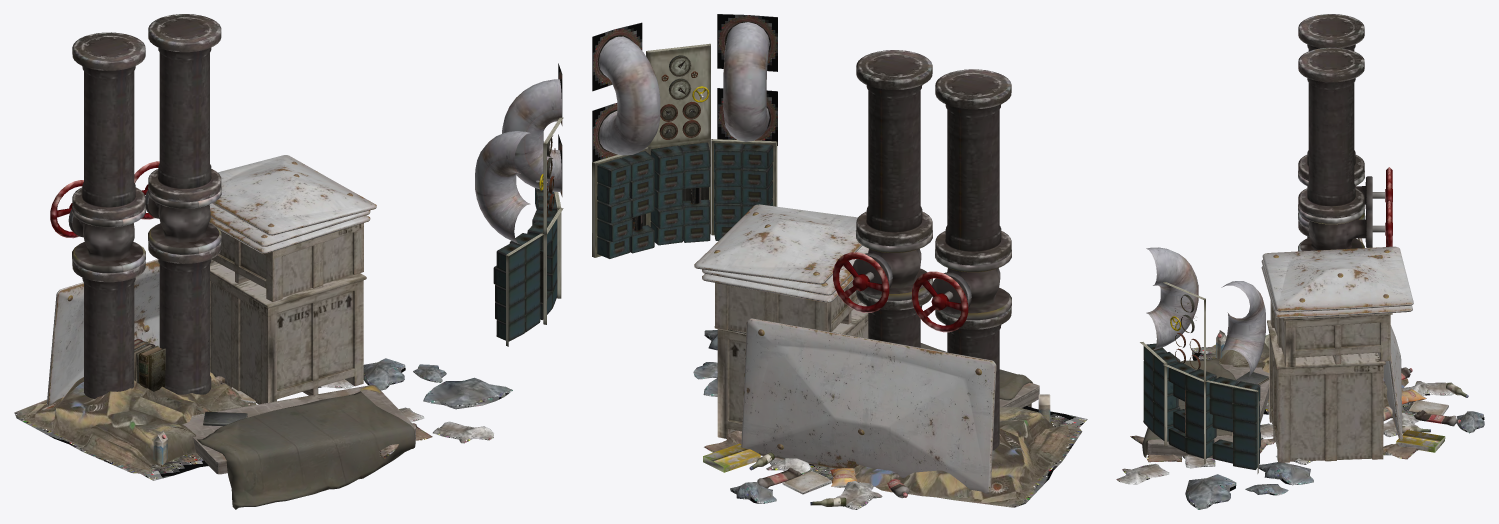
The model's file is underwaterlab_dwelling_600_corner_f.glb.
3 renders of one model, left to right at view 1: azimuth 30°, elevation 25°; view 2: azimuth 150°, elevation 25°; view 3: azimuth 270°, elevation 25°, orthographic. The views are drawn at different scales.
Parts seen in each view (by area): view 1: wooden_crate_a_red (2), submarine_greeble_150x200_05_90bend_LOD0, metal_bunk_bed_sheet_01_LOD0, junk_pile_Lshape_a (1), scientist_cover_c_LOD0 (×3), pipe_a_150_a (11), pipe_a_150_a (10), pipe_a_150_a (8), wooden_crate_b_red (4), pipe_a_150_a (9), scientist_cover_b_LOD0, ground_cloth_a (29) (+4 smaller); view 2: submarine_greeble_150x200_05_90bend_LOD0, scientist_cover_b_LOD0, scientist_cover_c_LOD0 (×3), pipe_a_150_a (11), pipe_a_150_a (10), junk_pile_Lshape_a (1), ground_junk_a (5), pipe_a_valve (6), wooden_crate_b_red (4), pipe_a_valve (5), wooden_crate_a_red (2), pipe_a_150_a (9) (+4 smaller); view 3: submarine_greeble_150x200_05_90bend_LOD0, wooden_crate_a_red (2), scientist_cover_c_LOD0 (×2), pipe_a_150_a (10), wooden_crate_b_red (4), ground_cloth_a (29), ground_junk_a (5), pipe_a_valve (5), pipe_a_150_a (11), junk_pile_Lshape_a (1), scientist_cover_b_LOD0, metal_bunk_bed_mattress (1) (+2 smaller).
Boxes of the visible parts, left/top/right/bottom form: wooden_crate_a_red (2): left=210, top=263, right=366, bottom=404; submarine_greeble_150x200_05_90bend_LOD0: left=475, top=63, right=563, bottom=346; metal_bunk_bed_sheet_01_LOD0: left=197, top=391, right=415, bottom=509; junk_pile_Lshape_a (1): left=14, top=371, right=256, bottom=480; scientist_cover_c_LOD0 (×3): left=209, top=155, right=376, bottom=253; pipe_a_150_a (11): left=72, top=32, right=145, bottom=220; pipe_a_150_a (10): left=148, top=14, right=221, bottom=202; pipe_a_150_a (8): left=148, top=242, right=221, bottom=404; wooden_crate_b_red (4): left=210, top=223, right=363, bottom=301; pipe_a_150_a (9): left=72, top=260, right=145, bottom=398; scientist_cover_b_LOD0: left=47, top=259, right=159, bottom=405; ground_cloth_a (29): left=318, top=358, right=512, bottom=458; submarine_greeble_150x200_05_90bend_LOD0: left=592, top=14, right=777, bottom=258; scientist_cover_b_LOD0: left=741, top=318, right=996, bottom=493; scientist_cover_c_LOD0 (×3): left=694, top=204, right=868, bottom=302; pipe_a_150_a (11): left=935, top=69, right=1011, bottom=265; pipe_a_150_a (10): left=856, top=50, right=932, bottom=246; junk_pile_Lshape_a (1): left=801, top=405, right=1087, bottom=507; ground_junk_a (5): left=703, top=430, right=909, bottom=509; pipe_a_valve (6): left=912, top=249, right=1011, bottom=332; wooden_crate_b_red (4): left=715, top=282, right=861, bottom=332; pipe_a_valve (5): left=833, top=230, right=932, bottom=312; wooden_crate_a_red (2): left=714, top=302, right=868, bottom=438; pipe_a_150_a (9): left=935, top=306, right=1011, bottom=450; submarine_greeble_150x200_05_90bend_LOD0: left=1140, top=247, right=1265, bottom=473; wooden_crate_a_red (2): left=1267, top=320, right=1385, bottom=462; scientist_cover_c_LOD0 (×2): left=1261, top=246, right=1413, bottom=318; pipe_a_150_a (10): left=1298, top=47, right=1364, bottom=218; wooden_crate_b_red (4): left=1270, top=301, right=1392, bottom=367; ground_cloth_a (29): left=1116, top=423, right=1313, bottom=509; ground_junk_a (5): left=1383, top=367, right=1484, bottom=459; pipe_a_valve (5): left=1298, top=200, right=1392, bottom=251; pipe_a_150_a (11): left=1298, top=14, right=1364, bottom=180; junk_pile_Lshape_a (1): left=1191, top=334, right=1416, bottom=418; scientist_cover_b_LOD0: left=1358, top=238, right=1402, bottom=439; metal_bunk_bed_mattress (1): left=1147, top=364, right=1269, bottom=457.
Size of the model in its own units: 4.74 by 3.79 by 3.48.
Materials: 9 (9 with a texture image).
